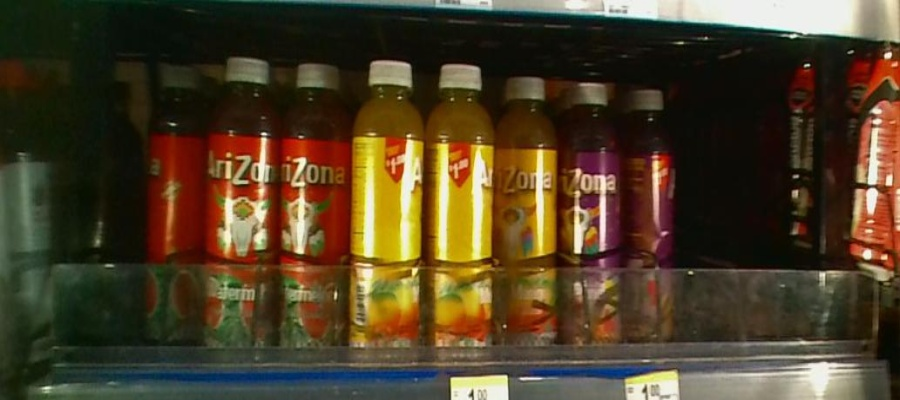bottle: (355, 61, 427, 372), (429, 49, 496, 369), (280, 54, 348, 369), (209, 53, 274, 374), (495, 60, 561, 364), (144, 50, 206, 355), (565, 65, 621, 363), (625, 70, 680, 353)
